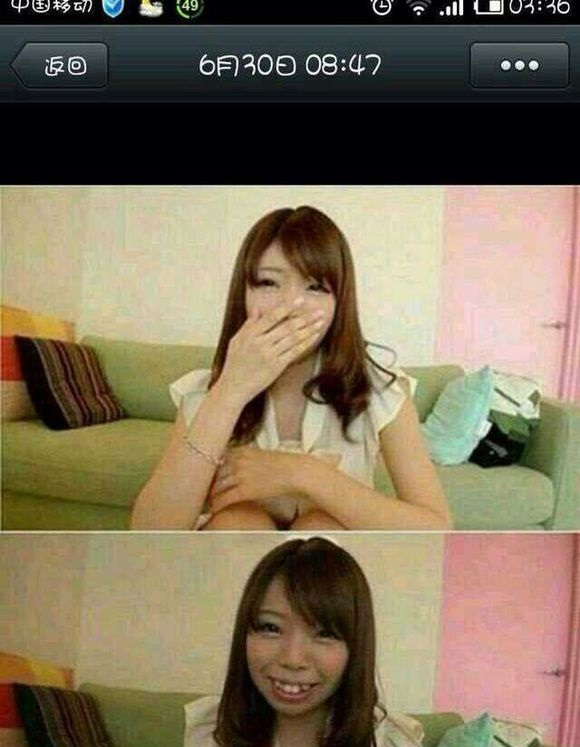face: (247, 570, 348, 717), (249, 238, 333, 365)
